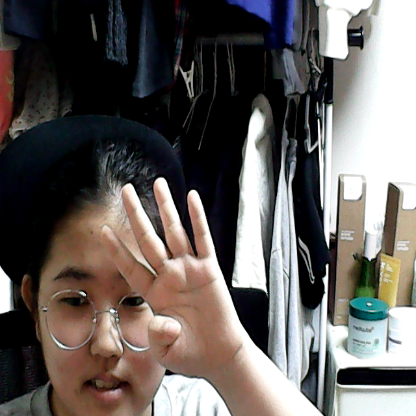Finger_4: (102, 170, 265, 392)
